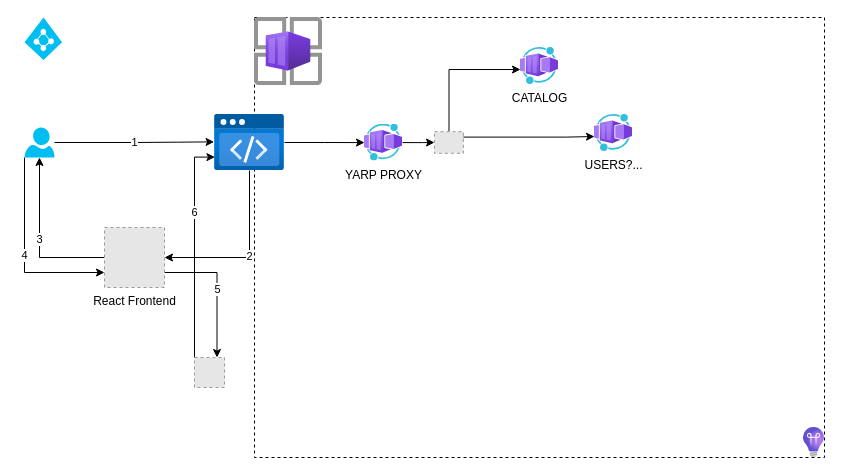
Image size: 842x475. Some labels were removed from this diagram. Grey dashed boxes stand in for pictures. The shapes that lost their labels are listed below. From the top down, each one's centre as x and y in pixels, then its label:
At (43,38): "B2C Auth".
At (249,142): "Opengym.com".
